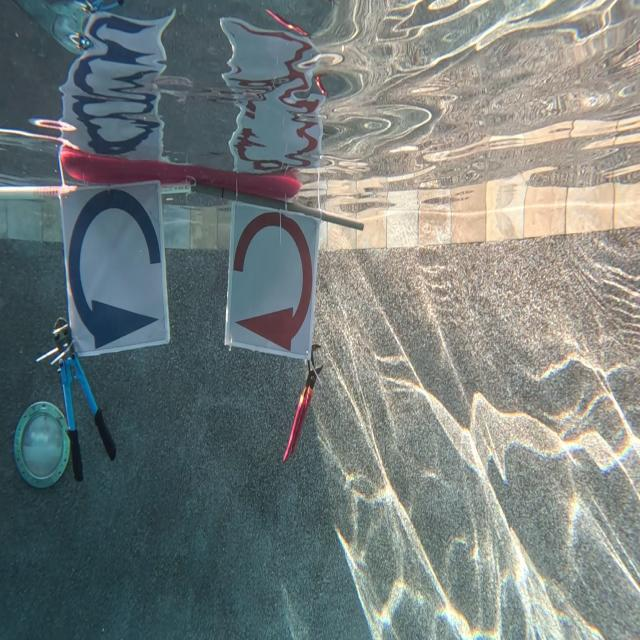blue_side: (64, 187, 167, 353)
red_side: (226, 204, 312, 350)
